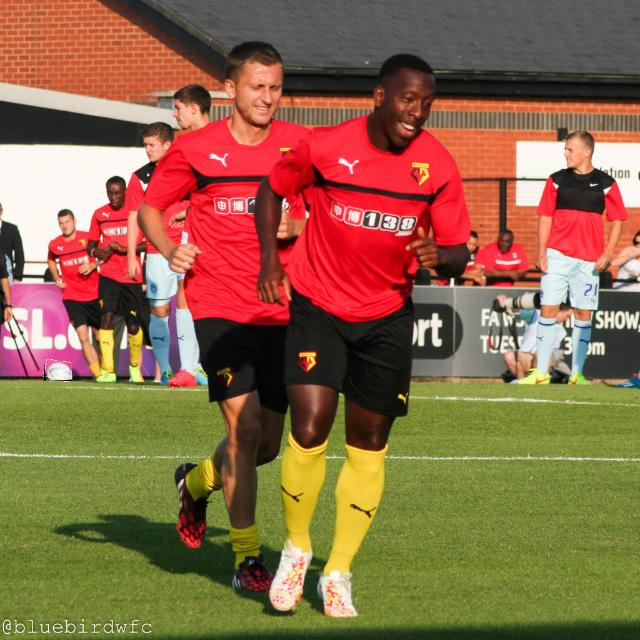Football: (44, 361, 72, 381)
